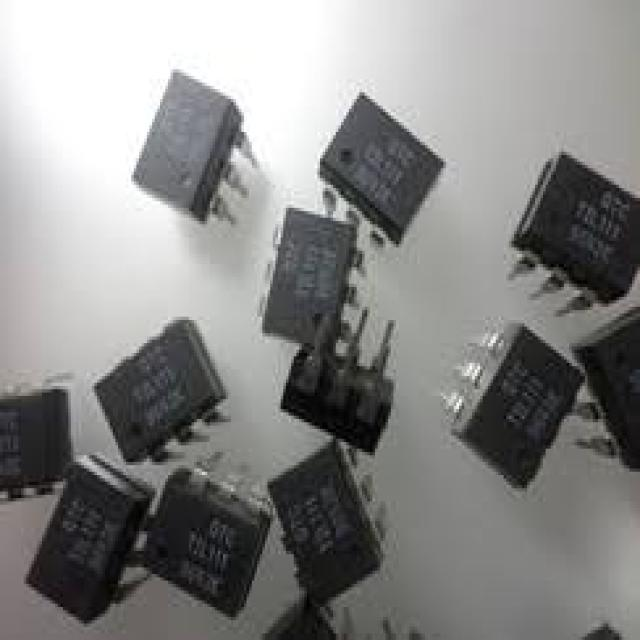IC: (26, 454, 151, 624), (320, 95, 443, 245), (268, 441, 381, 601), (464, 326, 578, 483), (508, 148, 637, 284), (143, 474, 267, 614), (100, 321, 223, 459), (139, 72, 241, 216), (266, 211, 354, 345), (572, 303, 640, 462), (0, 386, 70, 496)
